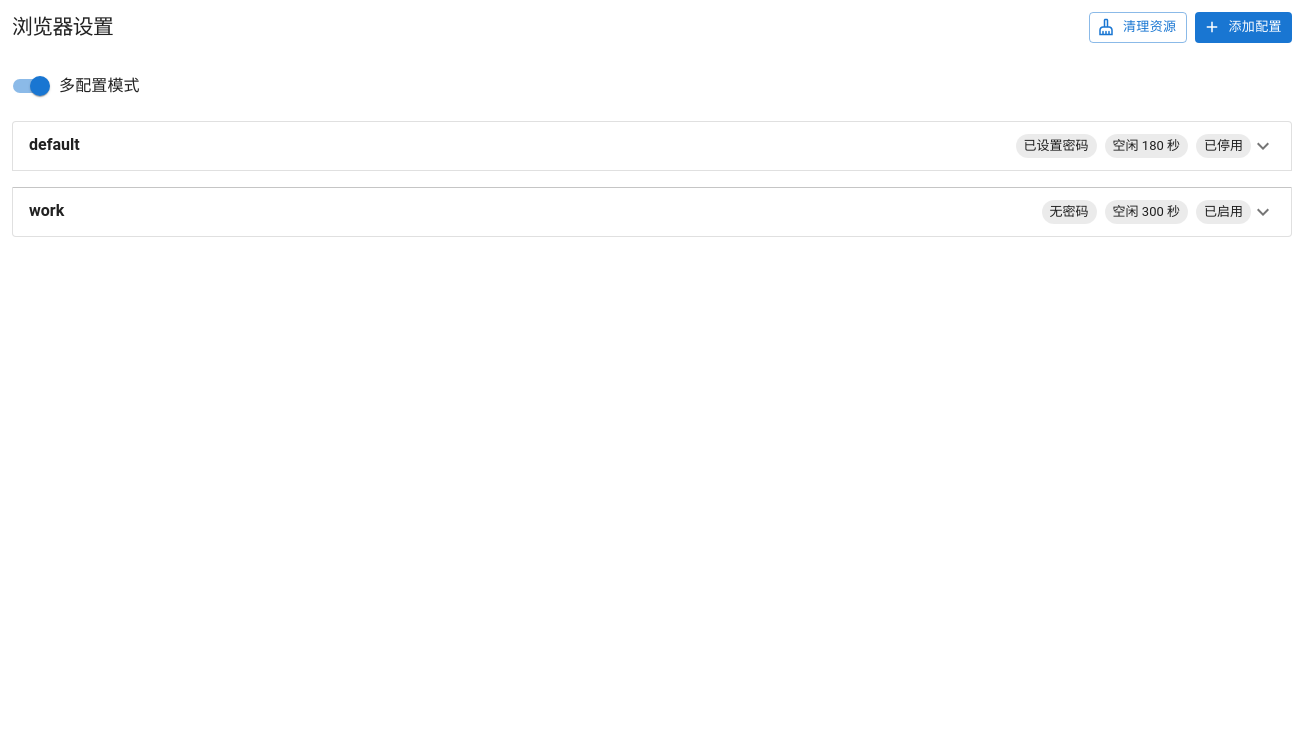
it: browser profile settings › discards inline edits and clears the password on collapse
Expected: the element named "浏览器配置 default" is shown, [12, 121, 1292, 171]
Click the button with aria-label "work 配置设置" at (47, 211), box [13, 188, 1291, 236]
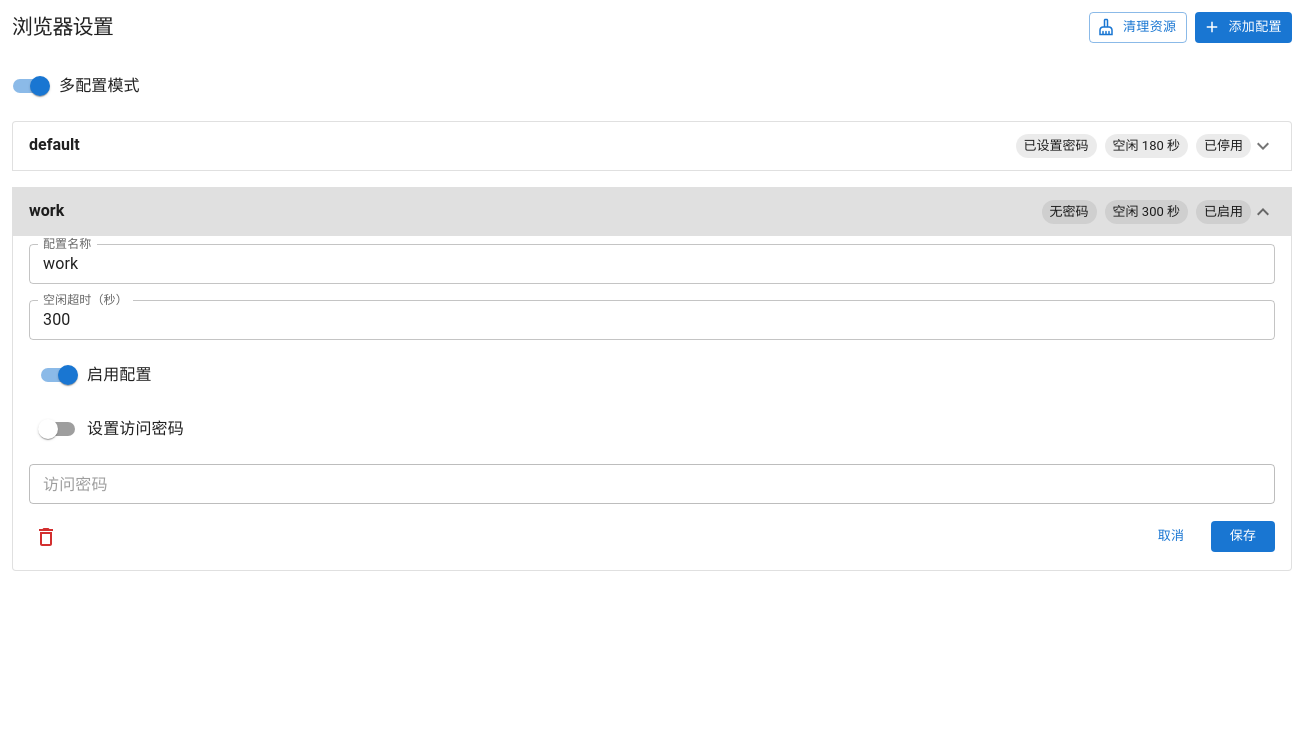
Replace the text in the field labelled "配置名称" with "unsaved" at (652, 264), box [29, 244, 1275, 284]
Replace the text in the number field labelled "空闲超时（秒）" with "900" at (652, 320), box [29, 300, 1275, 340]
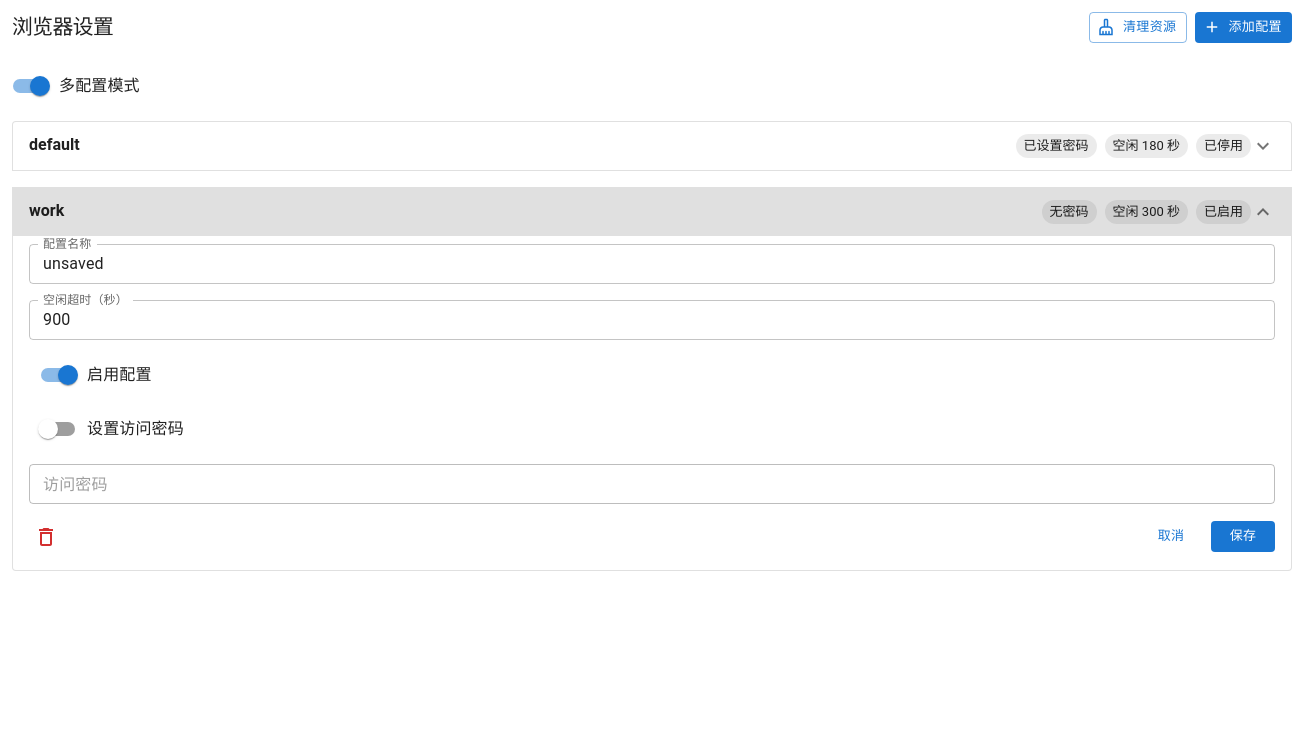
Click the switch labelled "设置访问密码" at (111, 429), box [38, 419, 184, 439]
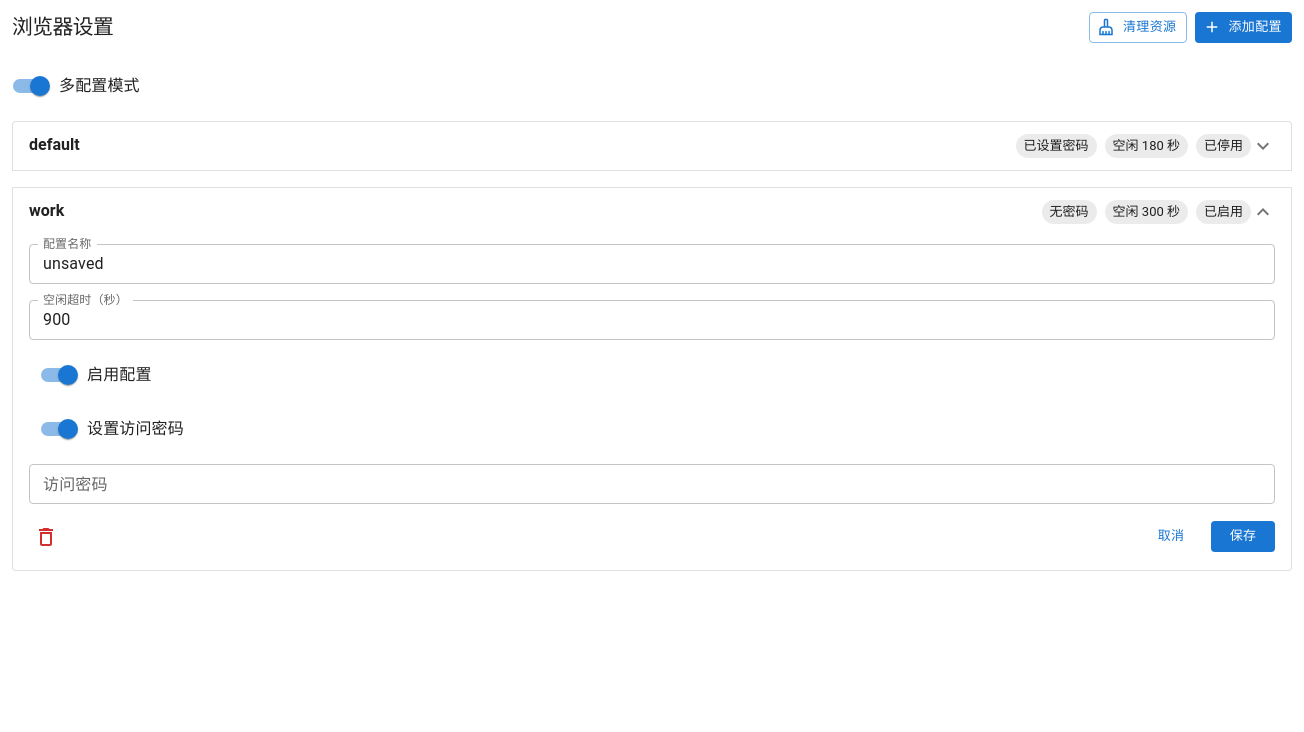
Type "discarded secret" into the password field labelled "访问密码" at (652, 484), box [29, 464, 1275, 504]
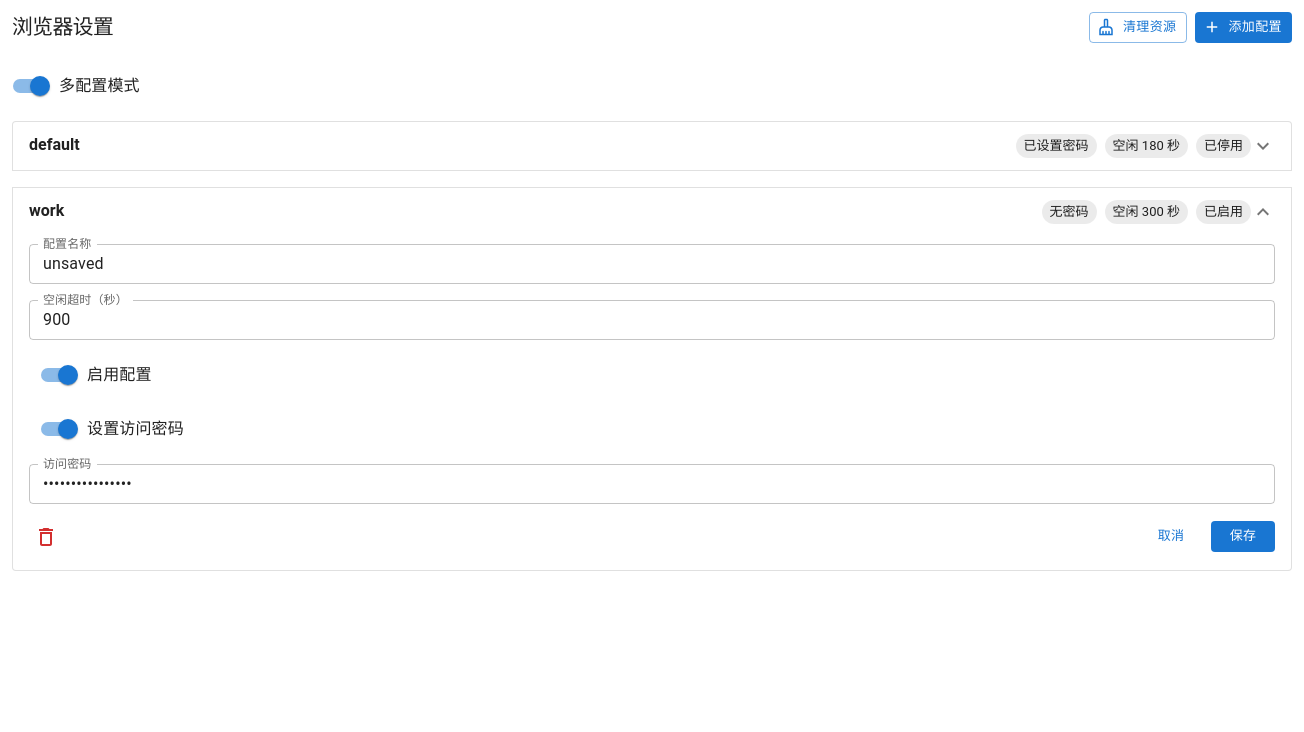
Click the button with aria-label "work 配置设置" at (47, 211), box [13, 188, 1291, 236]
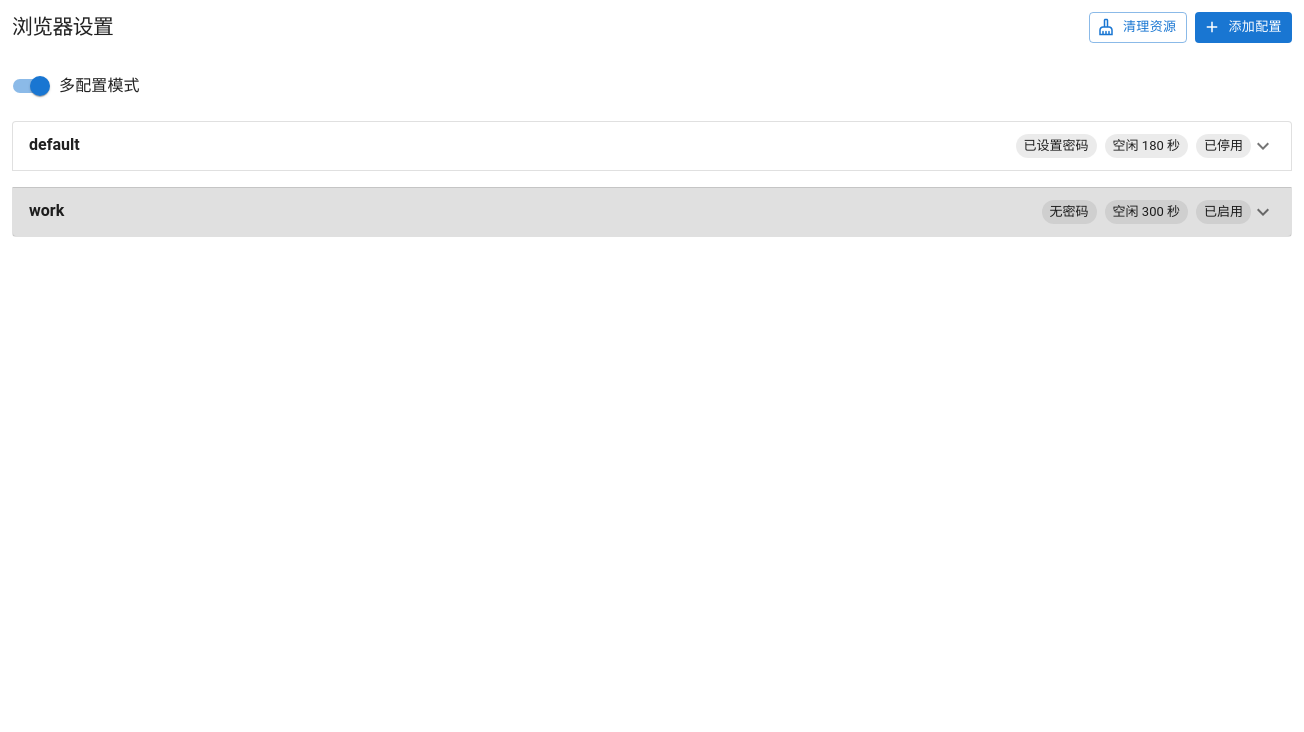
Expected: the button with aria-label "work 配置设置" is collapsed
Click the button with aria-label "work 配置设置" at (47, 211), box [13, 188, 1291, 236]
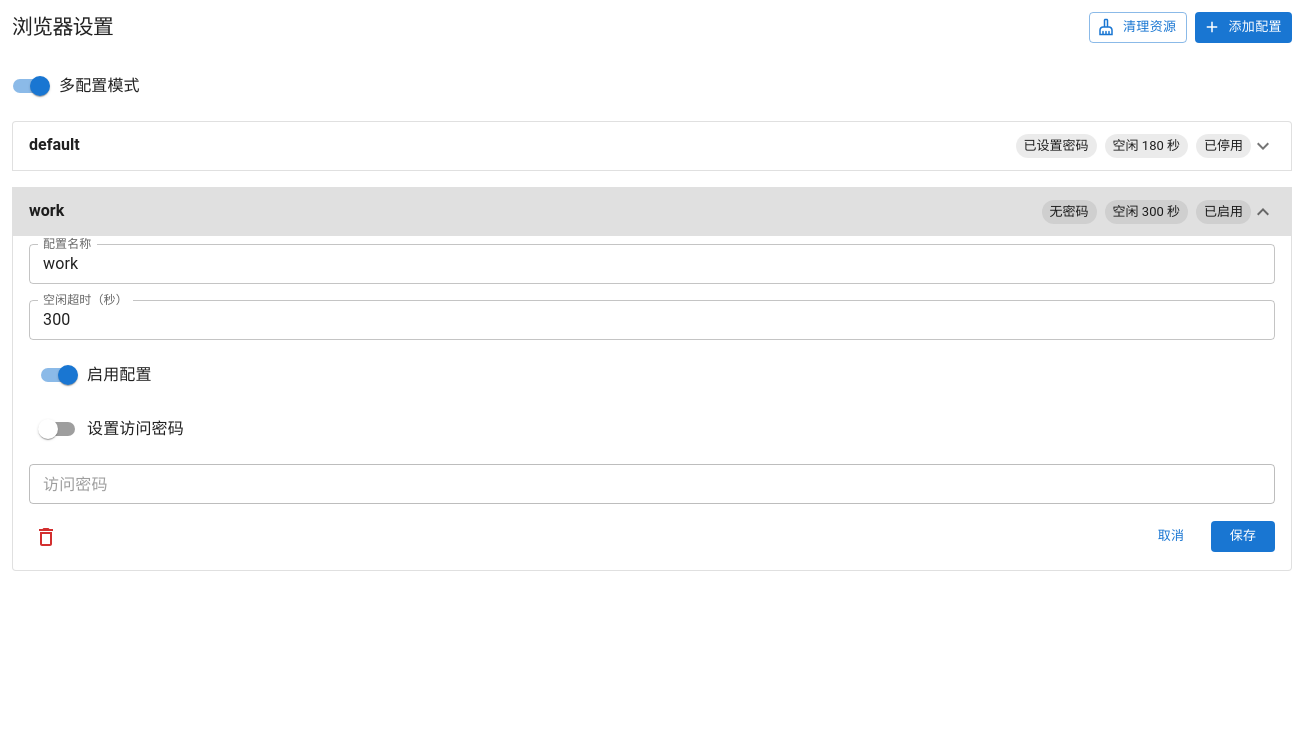
Expected: the field labelled "配置名称" holds "work", [29, 244, 1275, 284]
Expected: the number field labelled "空闲超时（秒）" holds "300", [29, 300, 1275, 340]
Expected: the switch labelled "设置访问密码" is not checked, [38, 419, 184, 439]
